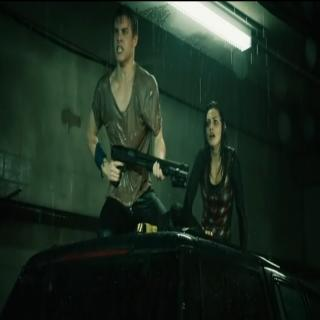gun: (109, 141, 190, 190)
